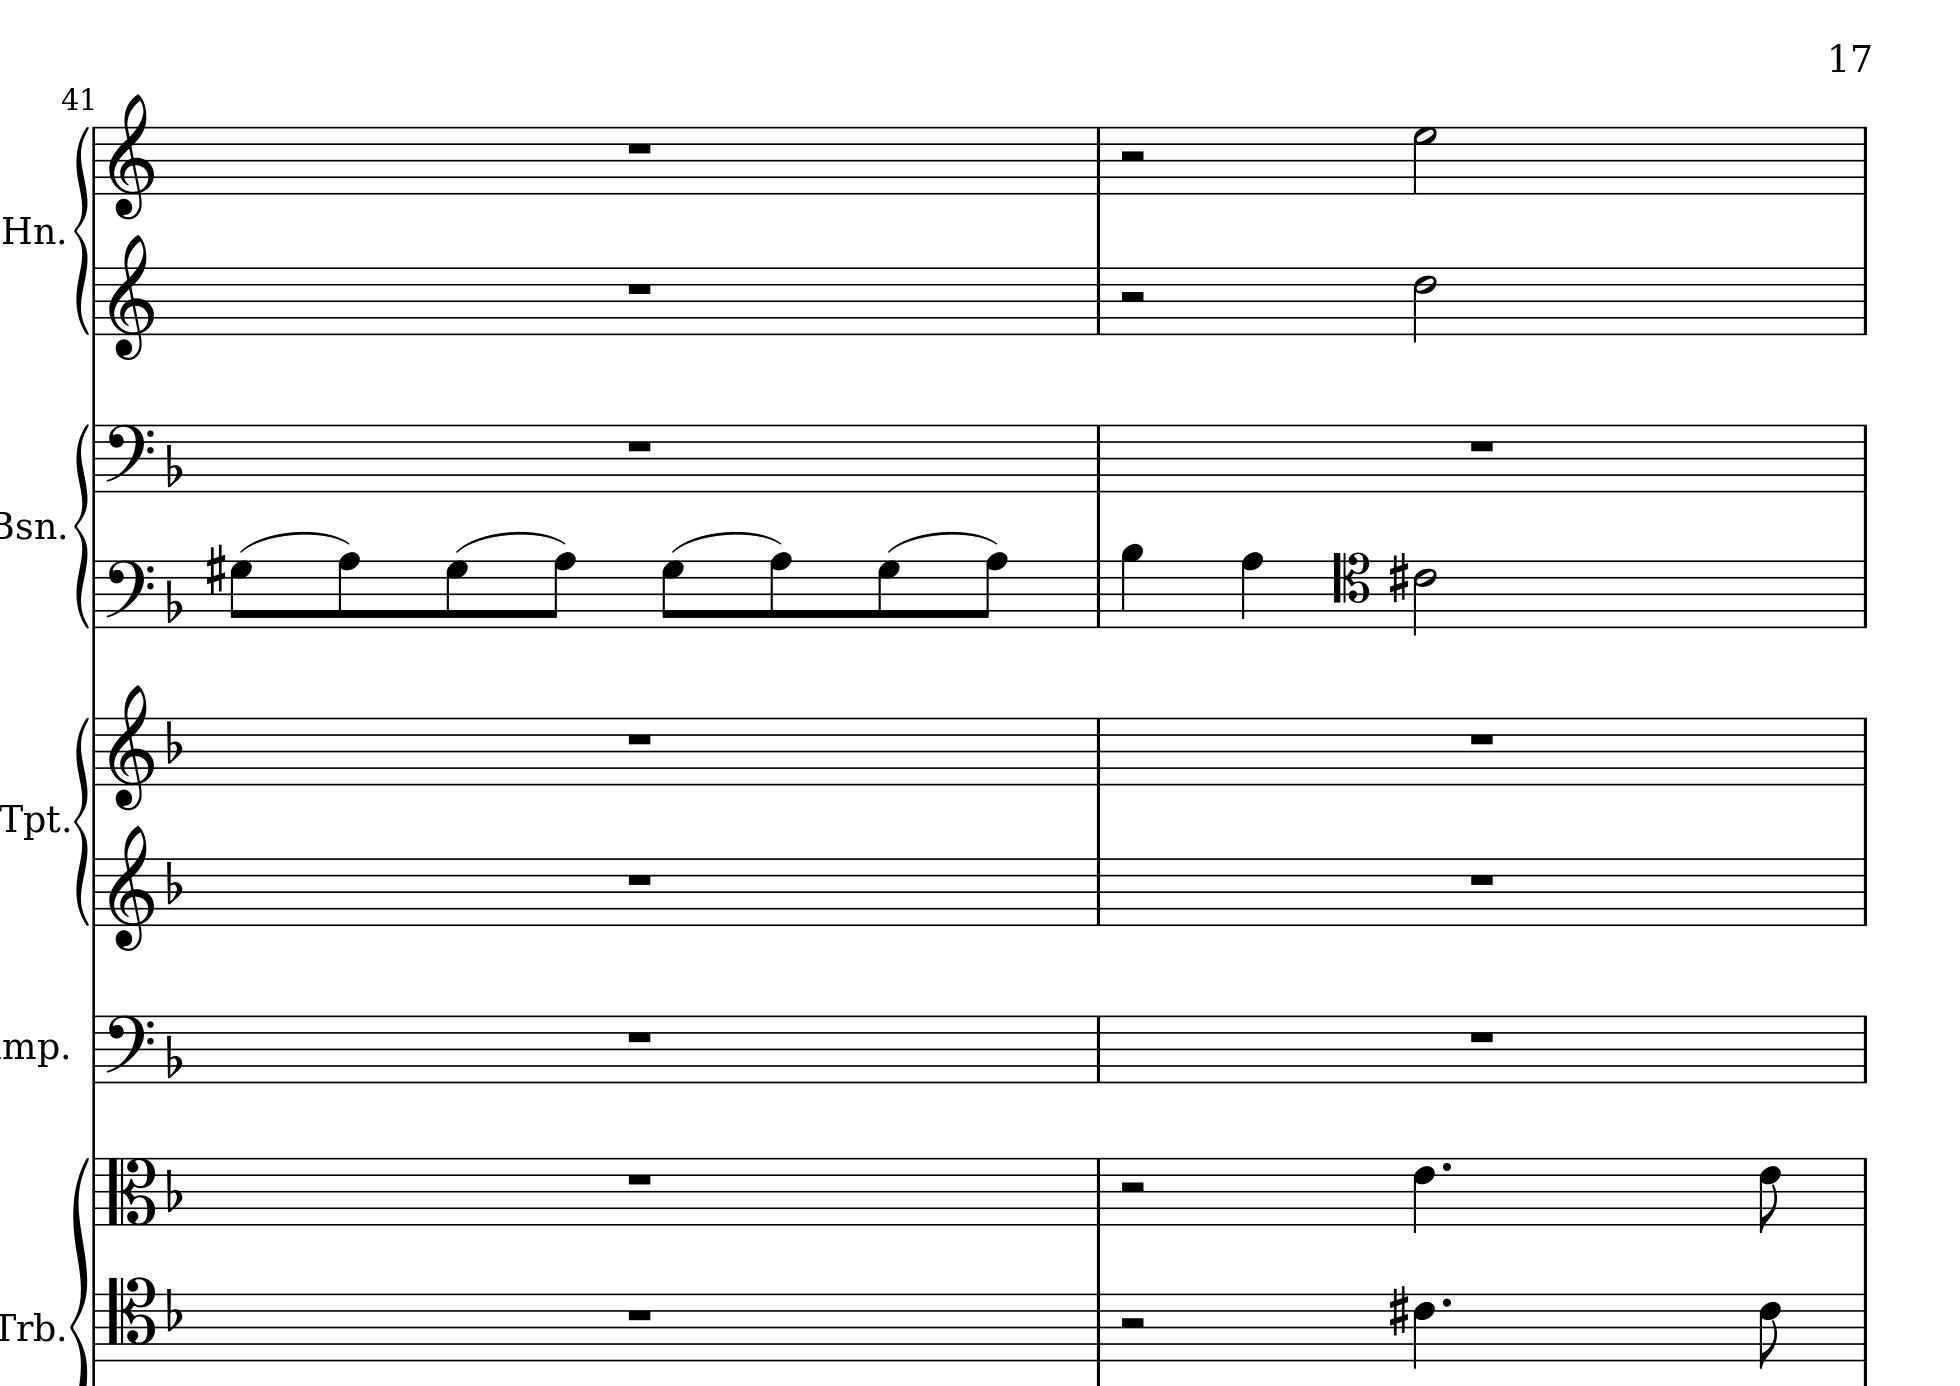1: (1828, 40, 1848, 75), (79, 85, 94, 112)
2_6: (1413, 265, 1440, 343), (1413, 556, 1437, 637)
2_7: (1413, 124, 1440, 195)
4: (61, 84, 79, 112)
4_6: (1411, 1153, 1437, 1233), (1413, 1288, 1437, 1366)
4_8: (1239, 549, 1264, 628)
4_9: (1120, 541, 1144, 630)
7: (1851, 40, 1872, 73)
8_6: (1758, 1290, 1782, 1369), (1758, 1153, 1782, 1231)
8_7: (874, 558, 901, 628), (228, 556, 253, 628), (444, 558, 469, 628), (660, 558, 685, 628)
8_8: (541, 549, 576, 630), (973, 550, 1008, 628), (769, 549, 793, 630), (337, 550, 361, 630)
Brace: (70, 712, 91, 927), (70, 421, 91, 630), (70, 124, 90, 336)
Cclef: (105, 1155, 157, 1227)
Fclef: (103, 556, 154, 630), (103, 421, 154, 493), (103, 1012, 154, 1084)
Flat: (163, 1165, 187, 1215), (163, 1285, 186, 1333), (163, 441, 184, 489), (163, 858, 184, 906), (163, 1032, 184, 1080), (163, 577, 184, 624), (163, 718, 184, 765)
Gclef: (106, 91, 156, 220), (106, 232, 156, 361), (106, 684, 154, 811), (106, 825, 154, 952)
Hn: (1, 211, 58, 250)
Rests1: (624, 277, 655, 298), (624, 868, 655, 889), (624, 1168, 655, 1189), (624, 1303, 655, 1324), (624, 138, 655, 157), (624, 729, 655, 748), (624, 1026, 655, 1045), (1467, 1026, 1498, 1045), (624, 436, 655, 454), (1467, 436, 1497, 454), (1467, 729, 1497, 747), (1467, 870, 1497, 888)
Rests2: (1116, 1177, 1149, 1197), (1116, 1312, 1149, 1332), (1117, 147, 1149, 166), (1117, 286, 1149, 306)
Sharp: (202, 541, 226, 595), (1389, 550, 1410, 604), (1389, 1282, 1410, 1336)
Single_barline: (1854, 1291, 1873, 1360), (1089, 717, 1108, 784), (1089, 424, 1108, 490), (85, 1015, 103, 1083), (1855, 1156, 1873, 1224), (1090, 559, 1108, 625), (1090, 265, 1107, 334), (1857, 559, 1873, 627), (1857, 717, 1873, 784), (1090, 856, 1107, 924), (1090, 1293, 1107, 1360), (1090, 127, 1107, 193), (1857, 127, 1873, 193), (87, 424, 103, 490), (1857, 424, 1873, 490), (1857, 858, 1873, 924), (1857, 1015, 1873, 1081), (1090, 1015, 1107, 1081), (1090, 1158, 1107, 1224), (87, 1293, 103, 1359), (1857, 268, 1873, 333), (88, 1156, 103, 1225), (87, 717, 102, 784), (88, 267, 102, 334), (88, 559, 102, 627), (88, 859, 102, 925), (88, 127, 100, 193)
Slur: (451, 529, 570, 553), (237, 529, 352, 553), (885, 529, 1000, 553), (670, 529, 783, 553)
Tensor_Cclef: (106, 1273, 157, 1360), (1332, 550, 1371, 628)
Trb: (1, 1300, 55, 1348)
dot: (1440, 1158, 1455, 1174), (1440, 1294, 1455, 1309)
